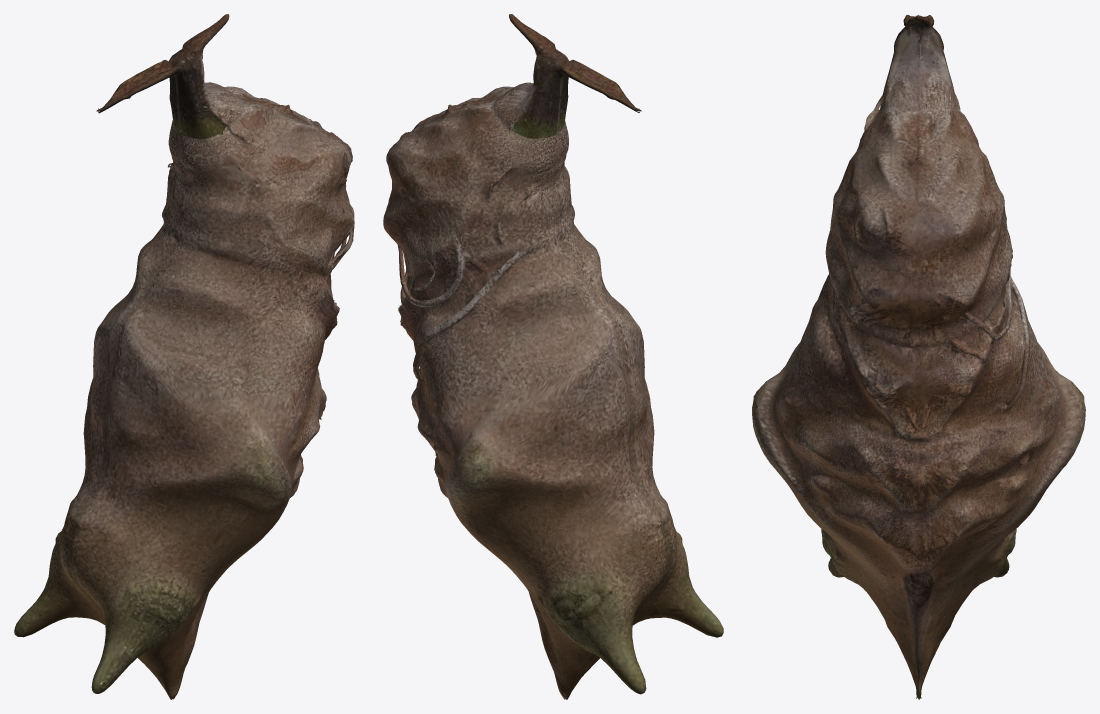
Rendered from crisalida_caligo_memnon.fbx.
3 views of the same model, side by side, from view 1: azimuth 30°, elevation 25°; view 2: azimuth 150°, elevation 25°; view 3: azimuth 270°, elevation 25° (orthographic). The views are drawn at different scales.
Parts seen in each view (by area): view 1: tripo_node_29c4be48; view 2: tripo_node_29c4be48; view 3: tripo_node_29c4be48.
Part boxes in pixels (left/top/right/bottom): tripo_node_29c4be48: left=14, top=14, right=354, bottom=699; tripo_node_29c4be48: left=383, top=14, right=723, bottom=699; tripo_node_29c4be48: left=752, top=14, right=1085, bottom=699.
Size of the model in its own units: 1.14 by 2.56 by 1.09.
Materials: 1 (1 with a texture image).
